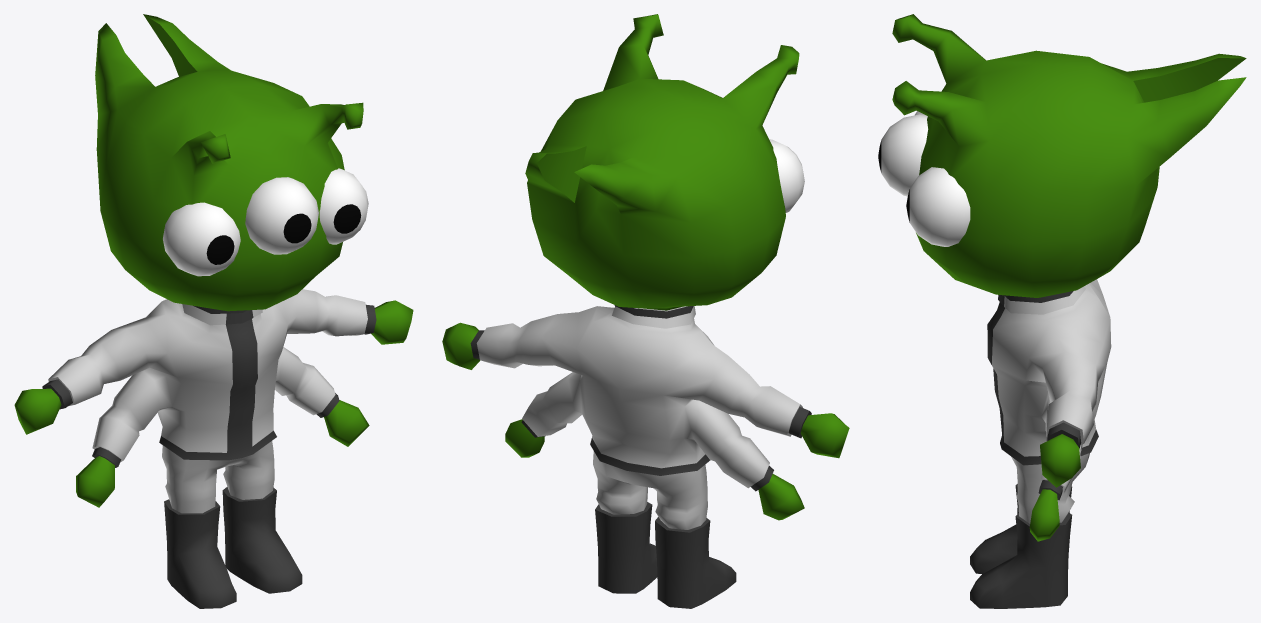
The model's file is Prototype_Alien_Green.fbx.
3 views of the same model, side by side, from view 1: azimuth 30°, elevation 25°; view 2: azimuth 150°, elevation 25°; view 3: azimuth 270°, elevation 25° (orthographic). The views are drawn at different scales.
Visible parts, largest first — view 1: LP_Alien_G; view 2: LP_Alien_G; view 3: LP_Alien_G.
Part boxes in pixels (<box>): LP_Alien_G: <box>14,14,413,608</box>; LP_Alien_G: <box>442,14,849,608</box>; LP_Alien_G: <box>878,14,1246,608</box>.
Bounding box in the file's own units: 56.04 × 68.08 × 42.74.
